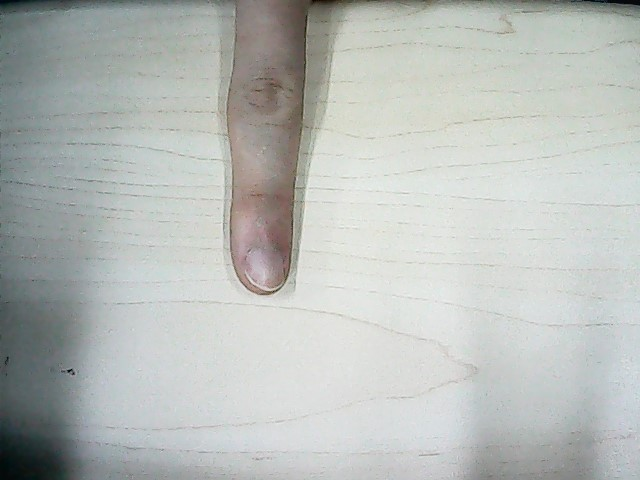nail: (246, 250, 284, 291)
